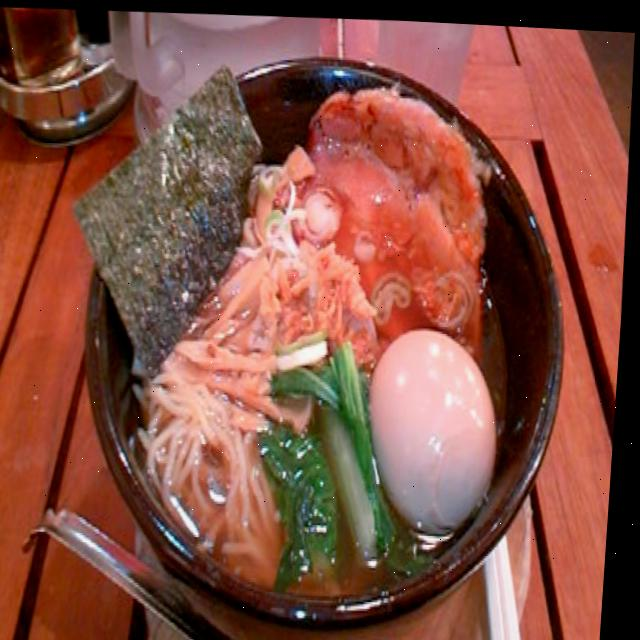面条主食: (51, 3, 527, 599)
